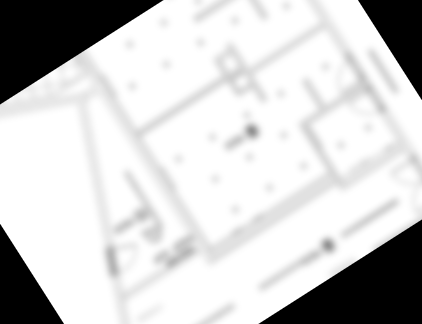door: (97, 231, 149, 281), (326, 57, 366, 96), (265, 0, 309, 3)
double door: (344, 86, 385, 126)
window: (388, 154, 422, 217)
